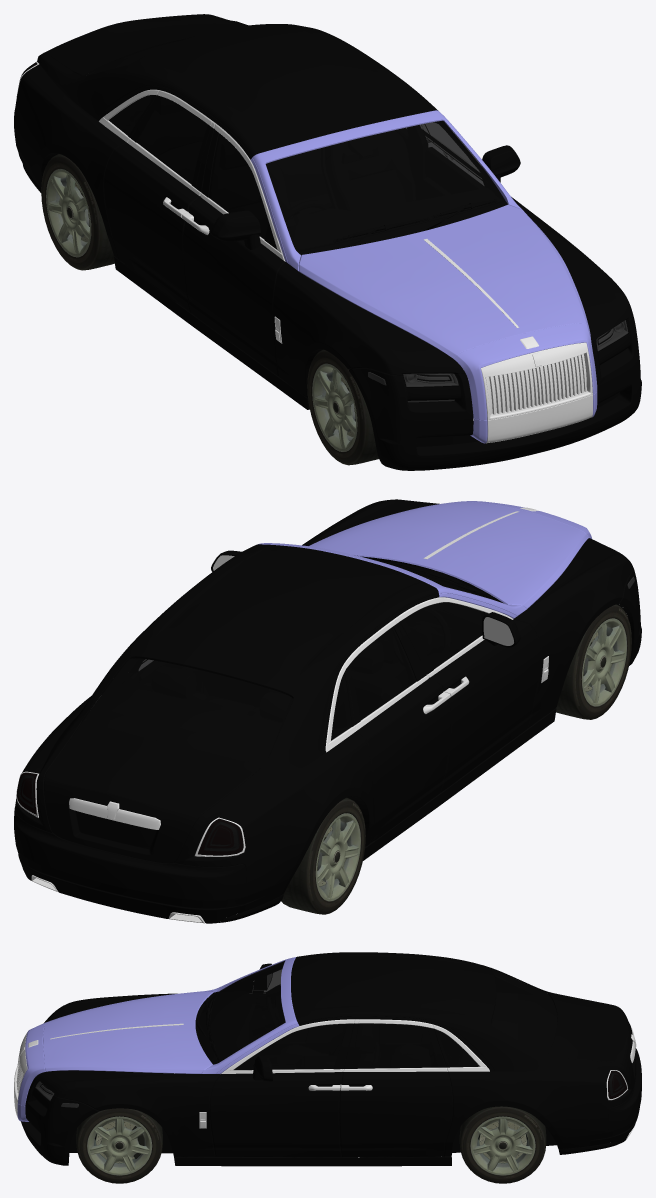
File: rolls_royce_ghost.90ea926d.glb
The picture shows the model from 3 angles, top to bottom: view 1: azimuth 30°, elevation 25°; view 2: azimuth 150°, elevation 25°; view 3: azimuth 270°, elevation 25°; orthographic projection. The views are drawn at different scales.
Parts seen in each view (by area): view 1: car.011, glass, car.005, wheel_f_l.003, wheel_f_l.002, car.008, car.013; view 2: car.011, glass, car.005, wheel_f_l.003, wheel_f_l.002, car.013, car.008, car.006; view 3: car.011, glass, car.005, wheel_f_l.001, wheel_f_l, car.008, car.013.
Boxes of the visible parts, x1,y1,x2,y2 form: car.011: [14, 14, 641, 470]; glass: [19, 35, 628, 387]; car.005: [88, 42, 504, 251]; wheel_f_l.003: [41, 154, 114, 270]; wheel_f_l.002: [307, 349, 378, 465]; car.008: [46, 153, 619, 446]; car.013: [128, 95, 431, 249]; car.011: [14, 499, 641, 923]; glass: [16, 555, 484, 855]; car.005: [83, 578, 483, 764]; wheel_f_l.003: [281, 797, 365, 914]; wheel_f_l.002: [556, 604, 631, 719]; car.013: [344, 611, 488, 726]; car.008: [347, 556, 627, 820]; car.006: [213, 555, 513, 645]; car.011: [14, 952, 641, 1166]; glass: [34, 961, 627, 1101]; car.005: [209, 961, 557, 1073]; wheel_f_l.001: [459, 1106, 546, 1183]; wheel_f_l: [76, 1108, 162, 1183]; car.008: [69, 991, 556, 1153]; car.013: [233, 1023, 449, 1070].
Size of the model in its own units: 2.25 by 1.57 by 5.57.
13 materials, 1 textured.
